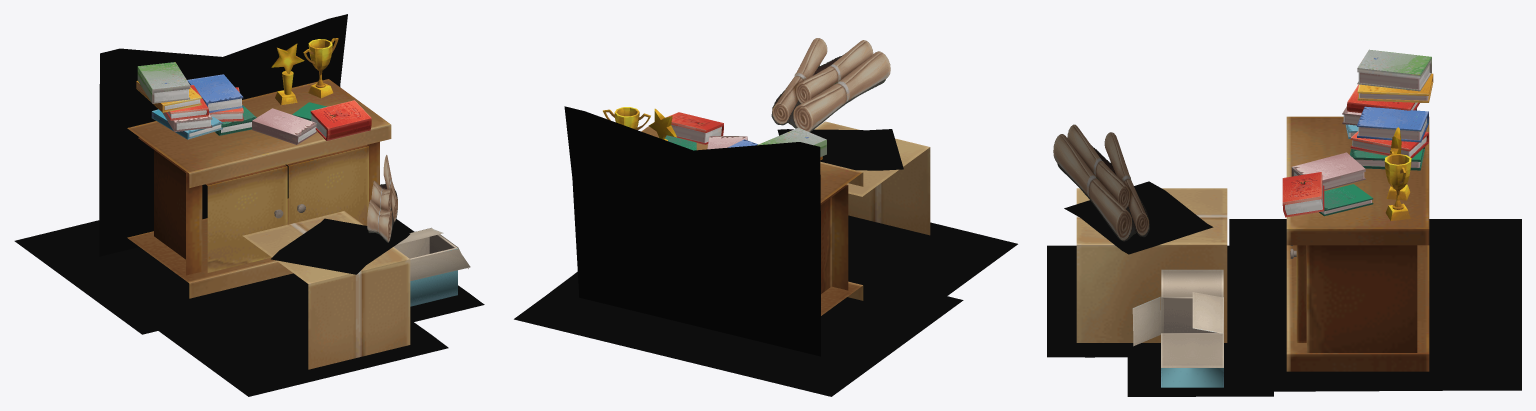
The model's file is K1_cupcarton.FBX.
The picture shows the model from 3 angles, left to right: view 1: azimuth 30°, elevation 25°; view 2: azimuth 150°, elevation 25°; view 3: azimuth 270°, elevation 25°; orthographic projection. The views are drawn at different scales.
Parts seen in each view (by area): view 1: daxiangzi, daxiangzi_yy, cupcarton_YY_03, cupcarton2, cupcarton_YY_01, olddesk2, olddesk3, cupcarton_YY_00, Oxiangz_04, book10, book1, cupcarton1 (+11 smaller); view 2: daxiangzi_yy, cupcarton_YY_03, cupcarton_YY_01, cupcarton1, cupcarton2, daxiangzi, cupcarton_YY_00, book10, book1, cupcarton4, cupcarton5; view 3: cupcarton_YY_03, daxiangzi, cupcarton2, cupcarton1, cupcarton_YY_01, cupcarton_YY_00, cupcarton_YY_02, Oxiangz_04, book1, Oxiangz_03, book6, Oxiangz_02 (+12 smaller).
Boxes of the visible parts, x1=… form: daxiangzi: x1=127, y1=79, x2=391, y2=298; daxiangzi_yy: x1=99, y1=14, x2=347, y2=256; cupcarton_YY_03: x1=14, y1=219, x2=414, y2=334; cupcarton2: x1=242, y1=211, x2=410, y2=369; cupcarton_YY_01: x1=158, y1=294, x2=448, y2=396; olddesk2: x1=206, y1=165, x2=287, y2=272; olddesk3: x1=287, y1=145, x2=368, y2=225; cupcarton_YY_00: x1=271, y1=218, x2=410, y2=274; Oxiangz_04: x1=393, y1=228, x2=457, y2=306; book10: x1=310, y1=100, x2=371, y2=140; book1: x1=137, y1=62, x2=190, y2=103; cupcarton1: x1=367, y1=155, x2=397, y2=242; daxiangzi_yy: x1=564, y1=106, x2=820, y2=356; cupcarton_YY_03: x1=514, y1=272, x2=963, y2=396; cupcarton_YY_01: x1=848, y1=215, x2=1017, y2=295; cupcarton1: x1=771, y1=38, x2=890, y2=132; cupcarton2: x1=814, y1=121, x2=930, y2=235; daxiangzi: x1=641, y1=122, x2=863, y2=315; cupcarton_YY_00: x1=777, y1=129, x2=903, y2=170; book10: x1=666, y1=112, x2=723, y2=144; book1: x1=757, y1=127, x2=826, y2=156; cupcarton4: x1=603, y1=107, x2=650, y2=130; cupcarton5: x1=648, y1=108, x2=676, y2=140; cupcarton_YY_03: x1=1229, y1=219, x2=1521, y2=391; daxiangzi: x1=1286, y1=116, x2=1429, y2=371; cupcarton2: x1=1076, y1=188, x2=1227, y2=342; cupcarton1: x1=1053, y1=124, x2=1149, y2=241; cupcarton_YY_01: x1=1047, y1=245, x2=1229, y2=357; cupcarton_YY_00: x1=1064, y1=181, x2=1213, y2=254; cupcarton_YY_02: x1=1127, y1=334, x2=1273, y2=396; Oxiangz_04: x1=1161, y1=297, x2=1223, y2=387; book1: x1=1357, y1=49, x2=1431, y2=91; Oxiangz_03: x1=1161, y1=333, x2=1223, y2=367; book6: x1=1357, y1=106, x2=1428, y2=142; Oxiangz_02: x1=1161, y1=269, x2=1223, y2=297.
Bounding box in the file's own units: 88.47 × 59.1 × 103.
